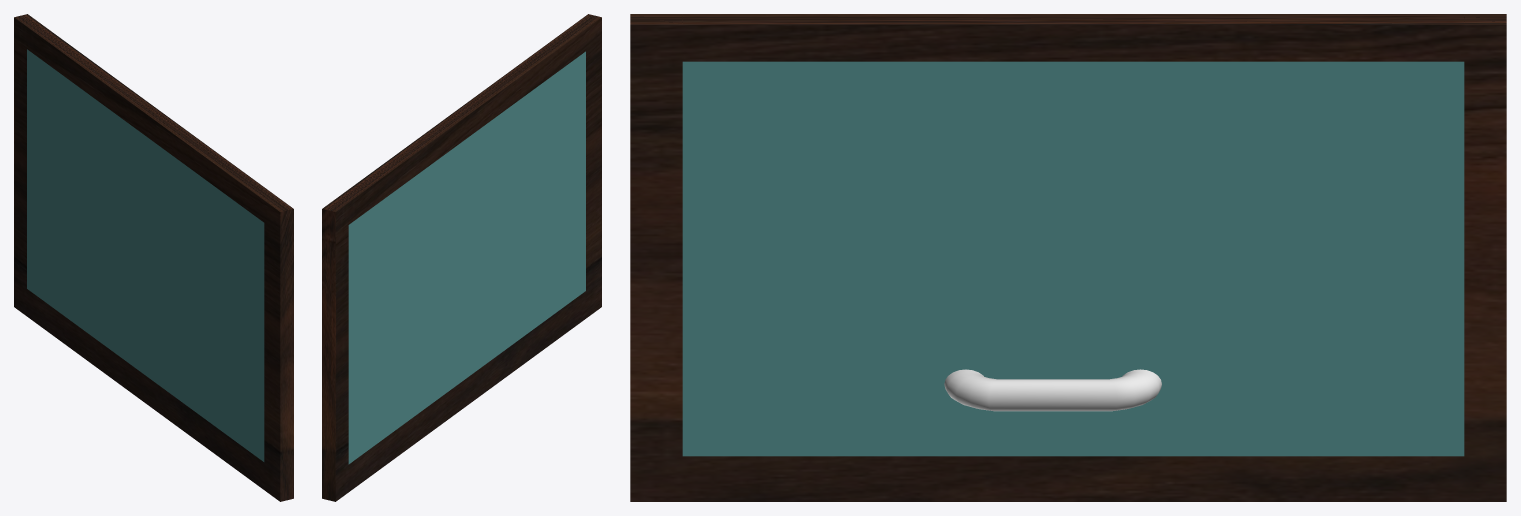
The model's file is 3D Cabinet Door.fbx.
3 renders of one model, left to right at view 1: azimuth 30°, elevation 25°; view 2: azimuth 150°, elevation 25°; view 3: azimuth 270°, elevation 25°, orthographic. The views are drawn at different scales.
Parts seen in each view (by area): view 1: pTorus4; view 2: pTorus4; view 3: pTorus4.
Part boxes in pixels (x1,y1,x2,y2): pTorus4: (14, 14, 293, 501); pTorus4: (322, 14, 601, 501); pTorus4: (630, 14, 1506, 501).
Bounding box in the file's own units: 0.4407 × 3.56 × 5.93.
